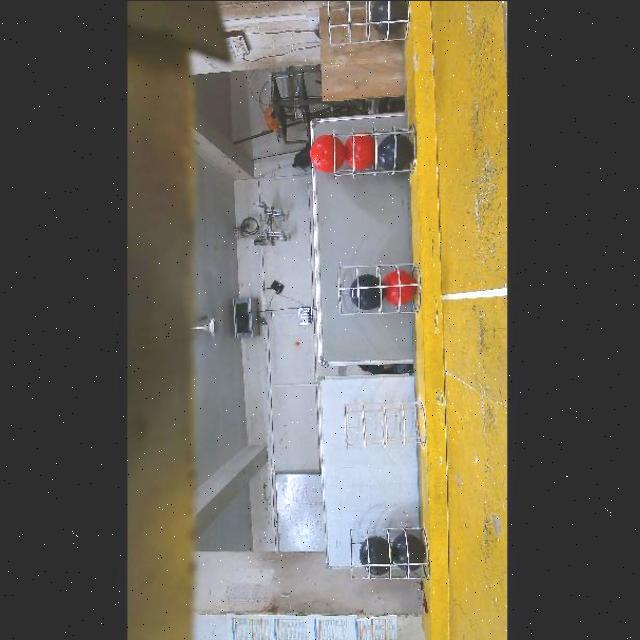P: (390, 533, 426, 574), (359, 534, 392, 574), (377, 133, 414, 168), (349, 274, 383, 309), (369, 0, 406, 32)
R: (310, 134, 343, 170), (343, 136, 378, 169), (383, 270, 416, 304)
S: (342, 504, 420, 580), (330, 102, 406, 178), (331, 262, 424, 318), (342, 393, 432, 445), (324, 0, 412, 52)
